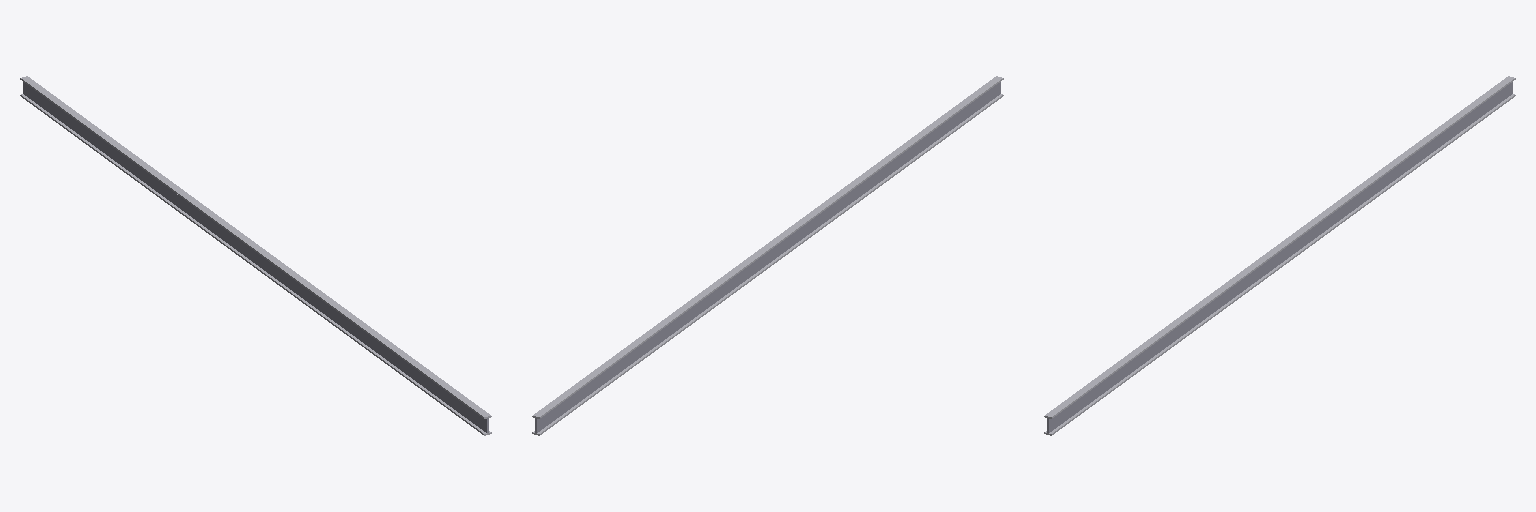
The robot description file, URDF, robot "h_bar":
<?xml version="1.0" ?>
<!-- =================================================================================== -->
<!-- |    This document was autogenerated by xacro from h_bar.xacro                    | -->
<!-- |    EDITING THIS FILE BY HAND IS NOT RECOMMENDED                                 | -->
<!-- =================================================================================== -->
<robot name="h_bar">
  <link name="world"/>
  <!-- Bottom leg (aligned with z-axis after rotation, below origin) -->
  <link name="hbar_bottom_leg">
    <visual>
      <origin rpy="0 1.57079633 0" xyz="0 0 0"/>
      <geometry>
        <!-- thickness x, profile width y, leg length along local z -->
        <box size="0.01 5.0 0.045"/>
      </geometry>
      <material name="hbar_material_bottom">
        <!-- Brushed steel-like gray -->
        <color rgba="0.75 0.75 0.78 1.0"/>
      </material>
    </visual>
    <collision>
      <origin rpy="0 1.57079633 0" xyz="0 0 0"/>
      <geometry>
        <box size="0.01 5.0 0.045"/>
      </geometry>
    </collision>
    <inertial>
      <origin rpy="0 0 0" xyz="0 0 0"/>
      <mass value="0.3333333333333333"/>
      <inertia ixx="0.6945006944444444" ixy="0.0" ixz="0.0" iyy="5.9027777777777766e-05" iyz="0.0" izz="0.6944472222222222"/>
    </inertial>
  </link>
  <!-- Top leg (aligned with z-axis after rotation, above origin) -->
  <link name="hbar_top_leg">
    <visual>
      <origin rpy="0 1.57079633 0" xyz="0 0 0"/>
      <geometry>
        <box size="0.01 5.0 0.045"/>
      </geometry>
      <material name="hbar_material_top">
        <!-- Brushed steel-like gray -->
        <color rgba="0.75 0.75 0.78 1.0"/>
      </material>
    </visual>
    <collision>
      <origin rpy="0 1.57079633 0" xyz="0 0 0"/>
      <geometry>
        <box size="0.01 5.0 0.045"/>
      </geometry>
    </collision>
    <inertial>
      <origin rpy="0 0 0" xyz="0 0 0"/>
      <mass value="0.3333333333333333"/>
      <inertia ixx="0.6945006944444444" ixy="0.0" ixz="0.0" iyy="5.9027777777777766e-05" iyz="0.0" izz="0.6944472222222222"/>
    </inertial>
  </link>
  <!-- Crossbar: vertical (aligned with z-axis) at the origin -->
  <link name="hbar_crossbar">
    <visual>
      <!-- Thickness in x,y, length in z -->
      <origin rpy="0 0 0" xyz="0 0 0"/>
      <geometry>
        <box size="0.01 5.0 0.1"/>
      </geometry>
      <material name="hbar_material_cross">
        <!-- Slightly darker steel for visual contrast -->
        <color rgba="0.65 0.65 0.7 1.0"/>
      </material>
    </visual>
    <collision>
      <origin rpy="0 0 0" xyz="0 0 0"/>
      <geometry>
        <box size="0.01 5.0 0.1"/>
      </geometry>
    </collision>
    <inertial>
      <origin rpy="0 0 0" xyz="0 0 0"/>
      <mass value="0.3333333333333333"/>
      <inertia ixx="0.6947222222222222" ixy="0.0" ixz="0.0" iyy="0.0002805555555555556" iyz="0.0" izz="0.6944472222222222"/>
    </inertial>
  </link>
  <!-- Fix crossbar to world; its center is at the macro pose -->
  <joint name="hbar_cross_fix" type="fixed">
    <parent link="world"/>
    <child link="hbar_crossbar"/>
    <origin rpy="0 0 0" xyz="0 0 0"/>
  </joint>
  <!-- Top leg: translated +L_leg/2 in x and +L_span/2 in z relative to crossbar -->
  <joint name="hbar_top_fix" type="fixed">
    <parent link="hbar_crossbar"/>
    <child link="hbar_top_leg"/>
    <origin rpy="0 0.0 0" xyz="0 0 0.05"/>
  </joint>
  <!-- Bottom leg: translated +L_leg/2 in x and -L_span/2 in z relative to crossbar -->
  <joint name="hbar_bottom_fix" type="fixed">
    <parent link="hbar_crossbar"/>
    <child link="hbar_bottom_leg"/>
    <origin rpy="0 0 0" xyz="0 0 -0.05"/>
  </joint>
</robot>

--- Render facts (derived) ---
3 views of the same robot in one strip: view 1: azimuth 30°, elevation 25°; view 2: azimuth 150°, elevation 25°; view 3: azimuth 330°, elevation 25° (orthographic).
Model h_bar with 4 links and 3 joints (3 fixed), rooted at world, posed all joints at 0.
Links seen in each view (by area): view 1: hbar_crossbar, hbar_top_leg, hbar_bottom_leg; view 2: hbar_crossbar, hbar_top_leg, hbar_bottom_leg; view 3: hbar_crossbar, hbar_top_leg, hbar_bottom_leg.
Boxes of the visible links, box(x1,y1,x2,y2) form: hbar_crossbar: box(23, 82, 488, 432); hbar_top_leg: box(20, 76, 491, 418); hbar_bottom_leg: box(20, 94, 491, 435); hbar_crossbar: box(535, 82, 1000, 432); hbar_top_leg: box(532, 76, 1003, 418); hbar_bottom_leg: box(532, 94, 1003, 435); hbar_crossbar: box(1047, 82, 1512, 432); hbar_top_leg: box(1044, 76, 1515, 418); hbar_bottom_leg: box(1044, 94, 1515, 435).
Size in the robot's own frame: 0.045 by 5 by 0.11 metres.
Geometry: primitives only (box / cylinder / sphere), no mesh files.
